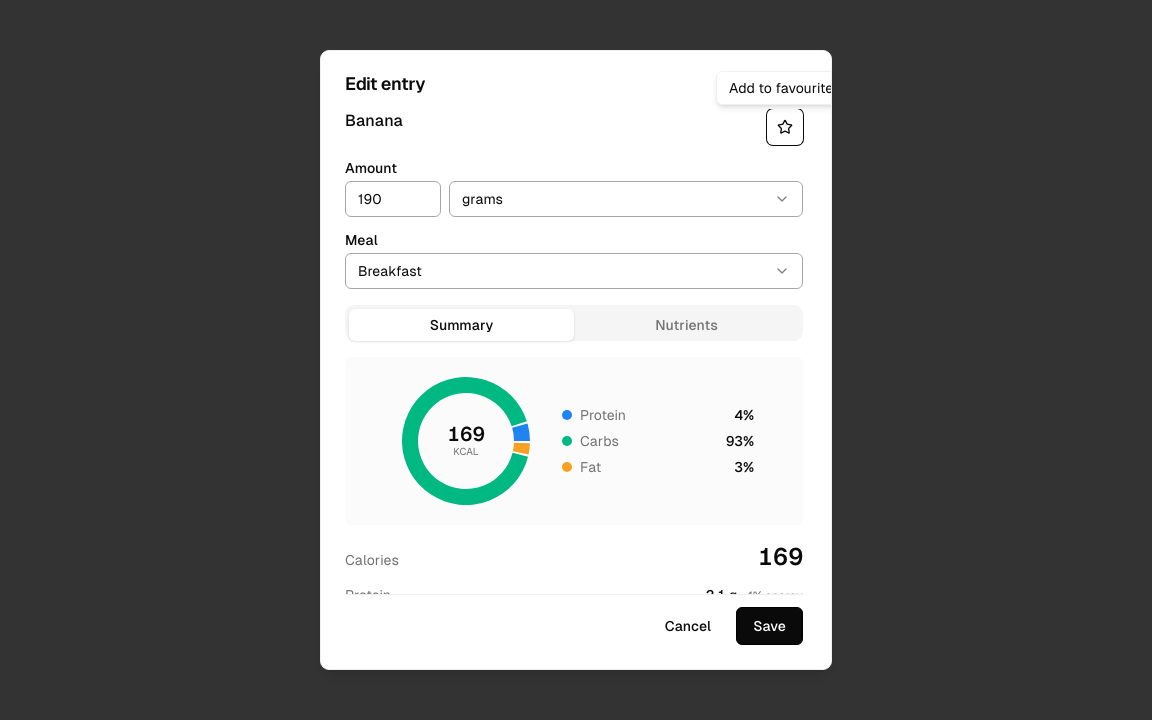
Test: LogFoodDialog › editing in named portions › adds a portion while editing, against the entry's own food
The image size is (1152, 720).
Click the dropdown with test id "select-unit" at (482, 199), box [449, 181, 803, 217]
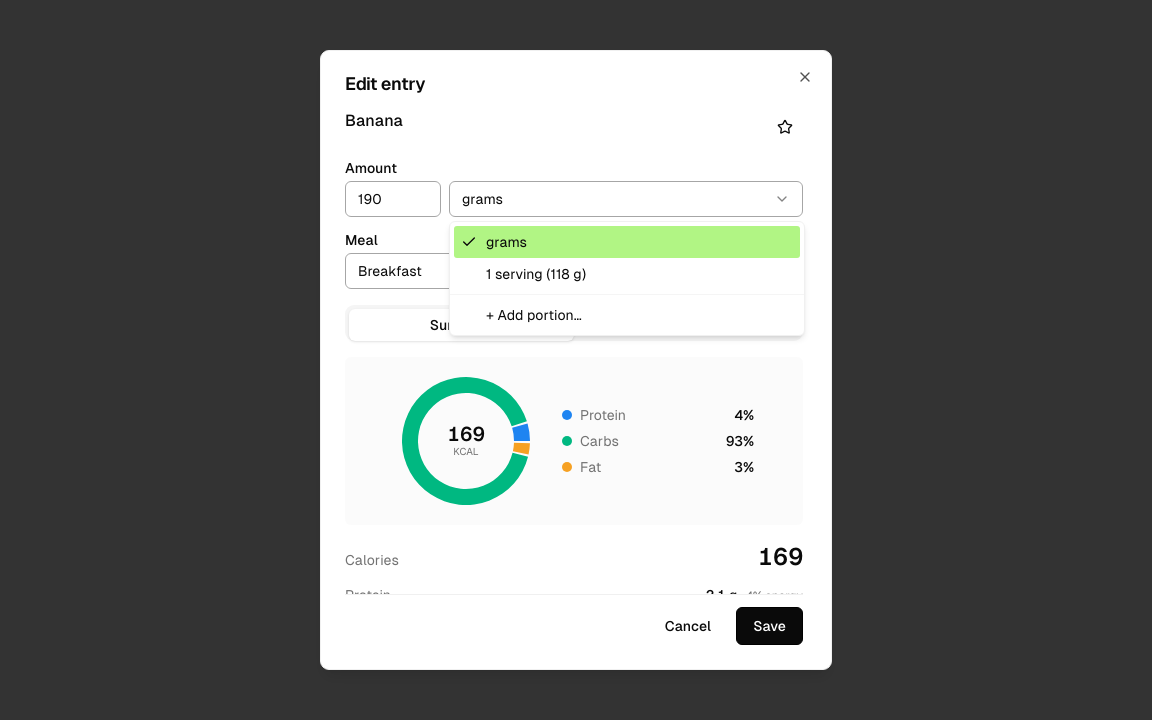
Click the option "+ Add portion…" at (534, 315), box [486, 307, 582, 323]
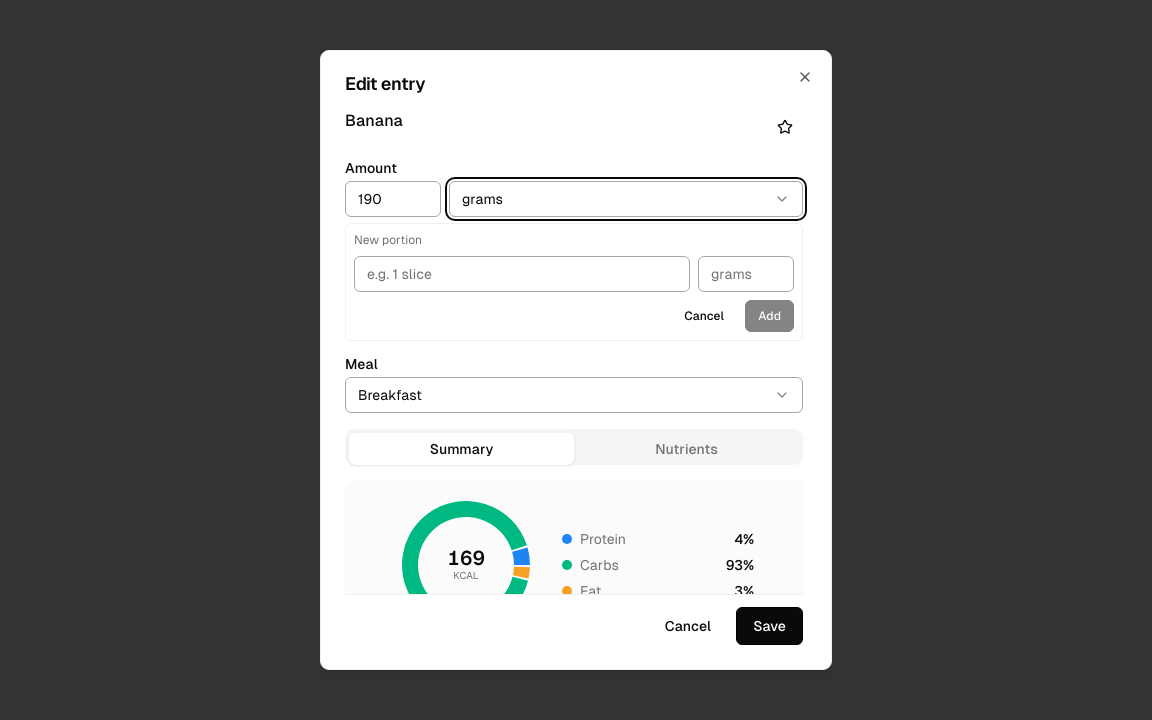
Type "1 slice" into the field with test id "input-portion-label" at (522, 274), box [354, 256, 690, 292]
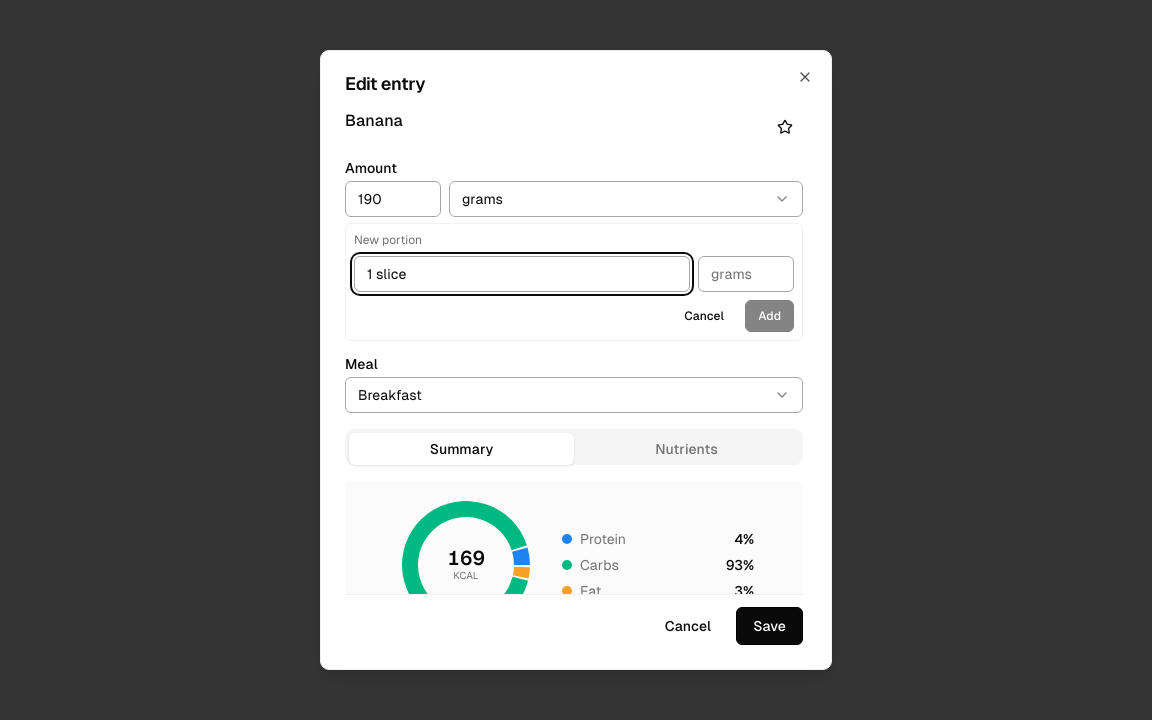
Type "95" into the number field with test id "input-portion-grams" at (746, 274), box [698, 256, 794, 292]
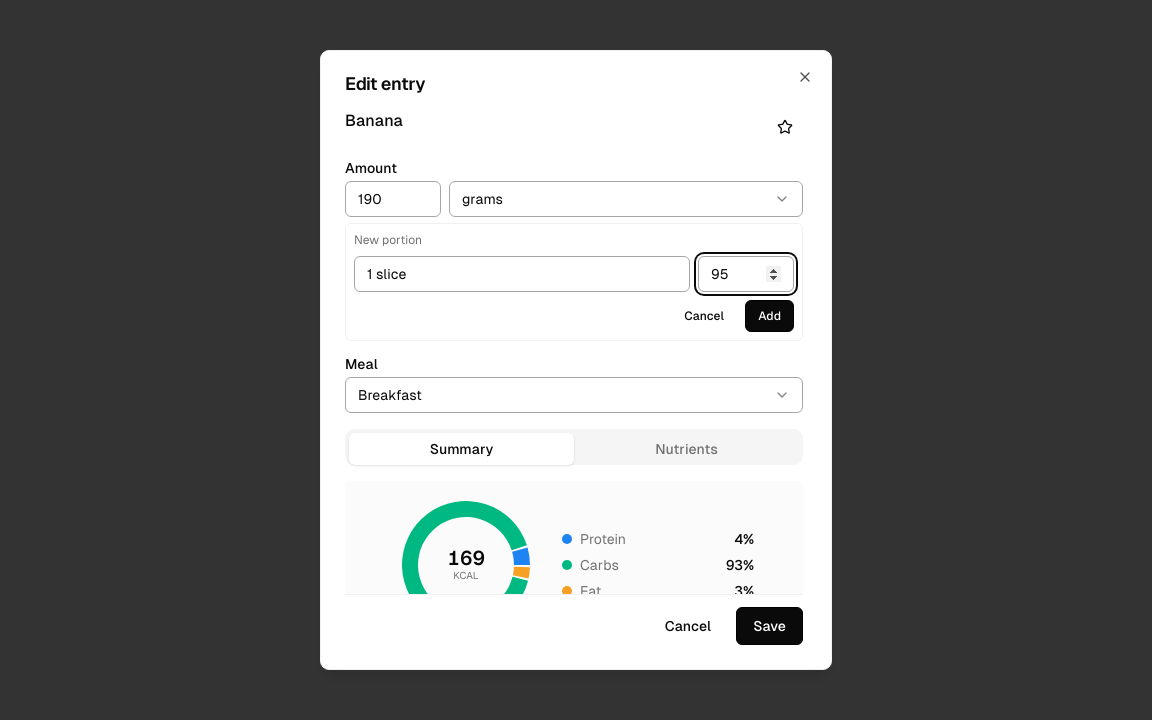
Click the button with test id "button-save-portion" at (770, 316), box [745, 300, 794, 332]
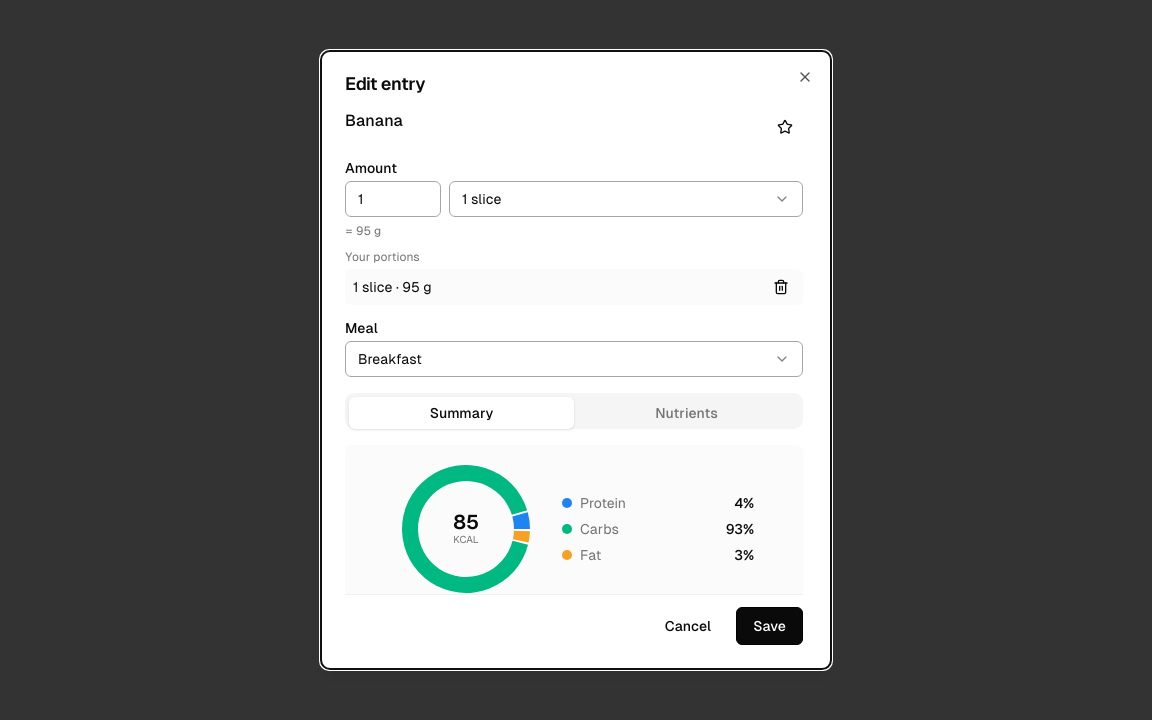
expect the number field with test id "input-quantity" holds "1": met, box [345, 181, 441, 217]
expect the dropdown with test id "select-unit" reads "1 slice": met, box [449, 181, 803, 217]
